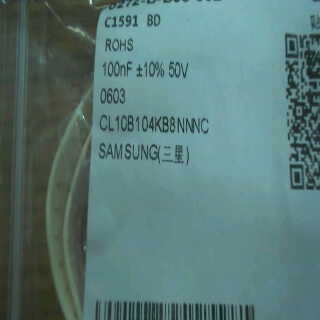100nF: (97, 59, 136, 81)
